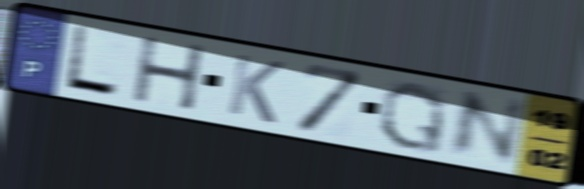7: (295, 61, 366, 136)
H: (130, 34, 209, 113)
K: (223, 50, 288, 127)
L: (61, 22, 122, 100)
N: (442, 88, 529, 166)
Q: (376, 79, 449, 157)
